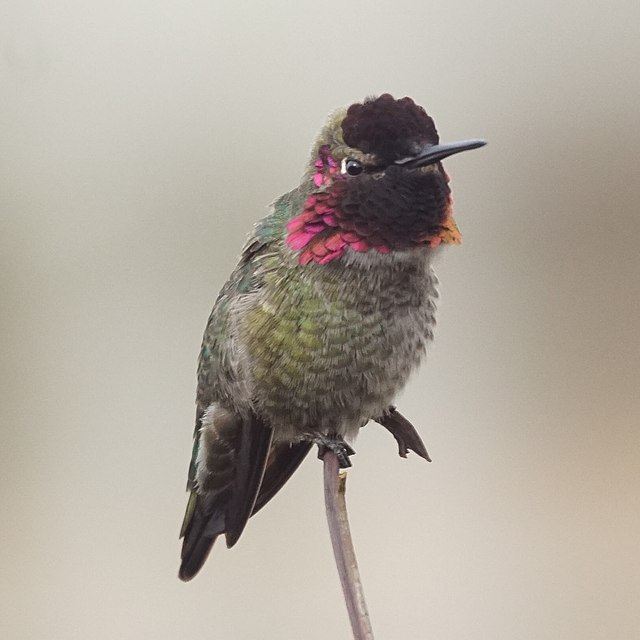calypte anna: (163, 92, 480, 582)
